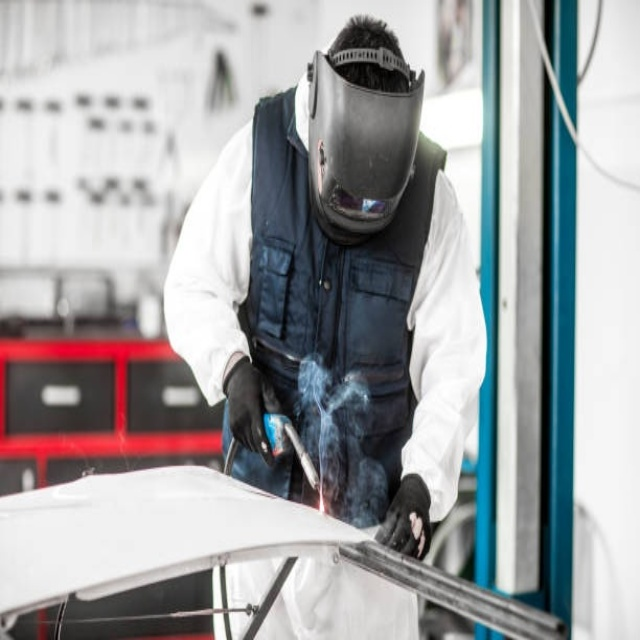Guantes: (223, 356, 275, 460), (376, 473, 432, 561)
